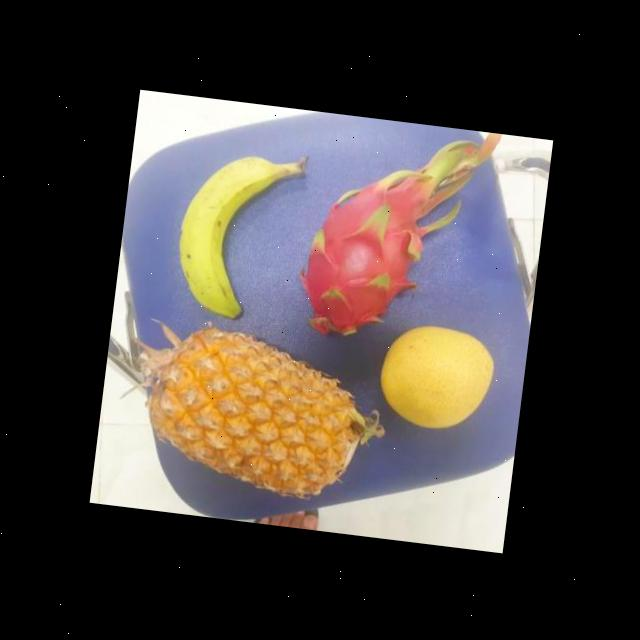banana: (167, 148, 300, 322)
pear: (370, 319, 498, 433)
pineapple: (132, 316, 374, 503)
pitaya: (288, 172, 437, 336)
